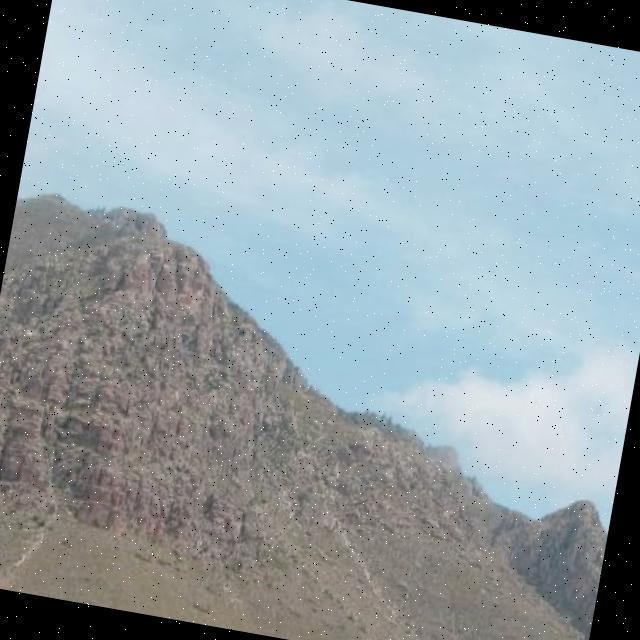Cs: (202, 1, 640, 317)
